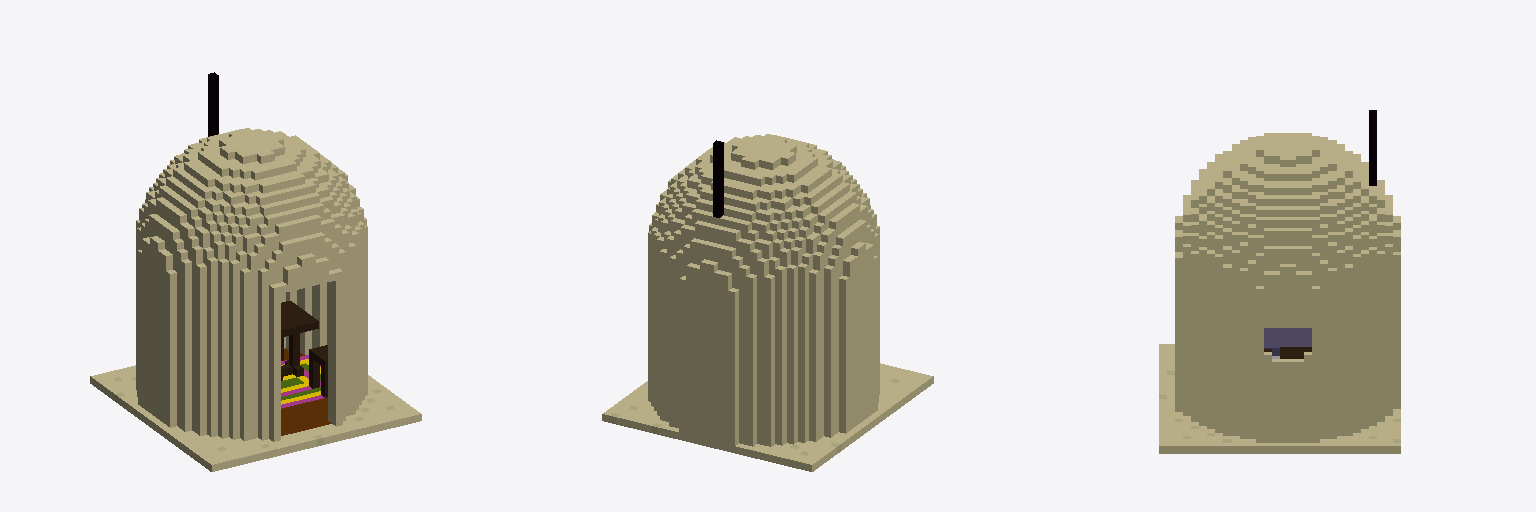
3 renders of one model, left to right at view 1: azimuth 30°, elevation 25°; view 2: azimuth 150°, elevation 25°; view 3: azimuth 270°, elevation 25°, orthographic.
Size of the model in its own units: 30 by 40 by 30.
Materials: 1 (1 with a texture image).